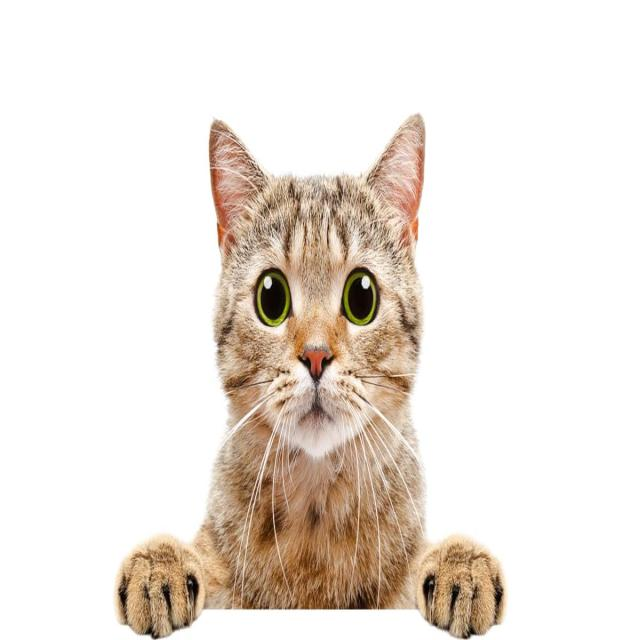Dog: (203, 108, 442, 480)
